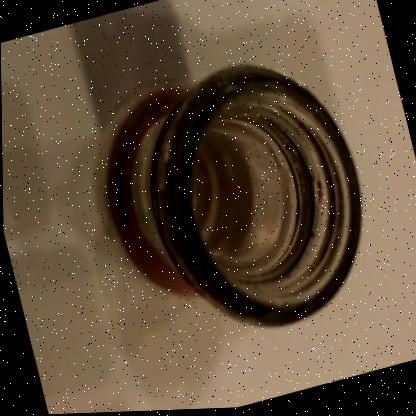Glass: (107, 68, 361, 329)
